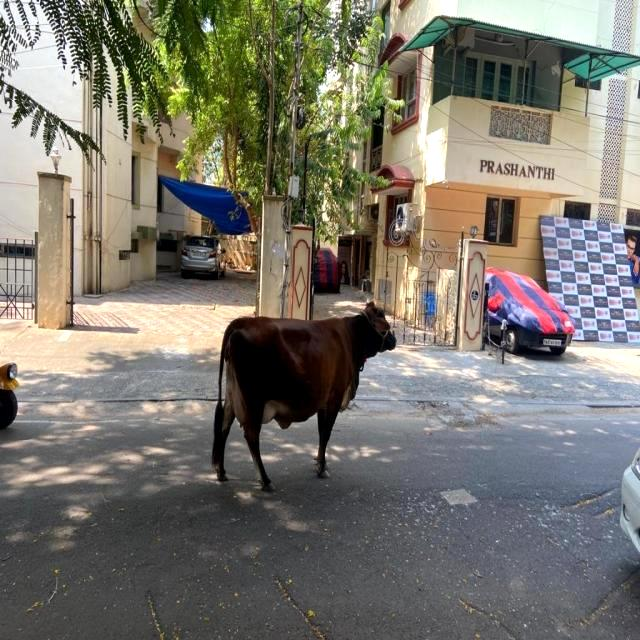COW: (212, 302, 396, 489)
